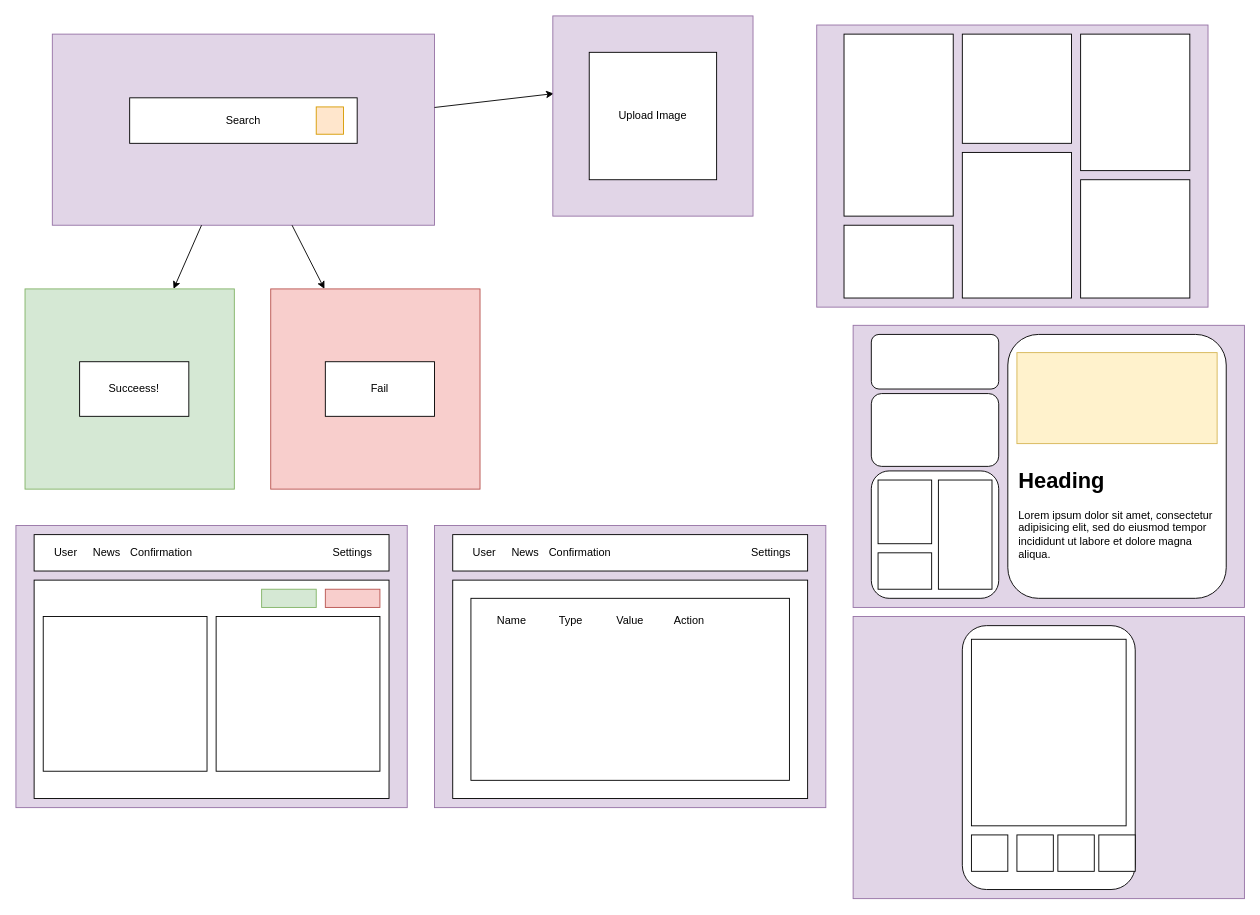
Some shapes in this 1260 by 915 pixel diagram are drawn without their labels. Here are the shapes that lost their labels. From the top down, the centre of each, then its label:
At [934,361]: "Ip Series".
At [934,429]: "Table".
